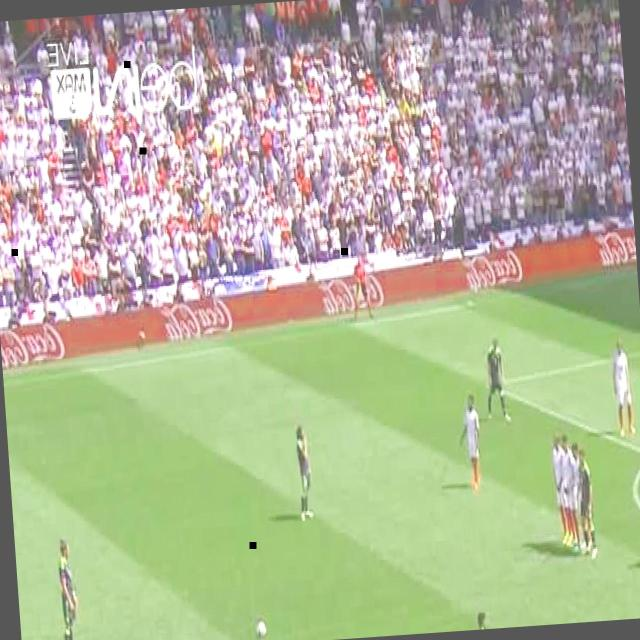ball: (255, 620, 268, 638)
player-white: (454, 392, 484, 490), (56, 536, 82, 640), (482, 338, 512, 425), (610, 340, 636, 440), (293, 423, 317, 525), (559, 431, 579, 550), (550, 434, 570, 548), (576, 450, 596, 560), (571, 445, 591, 552), (350, 255, 375, 322), (471, 608, 503, 630)
